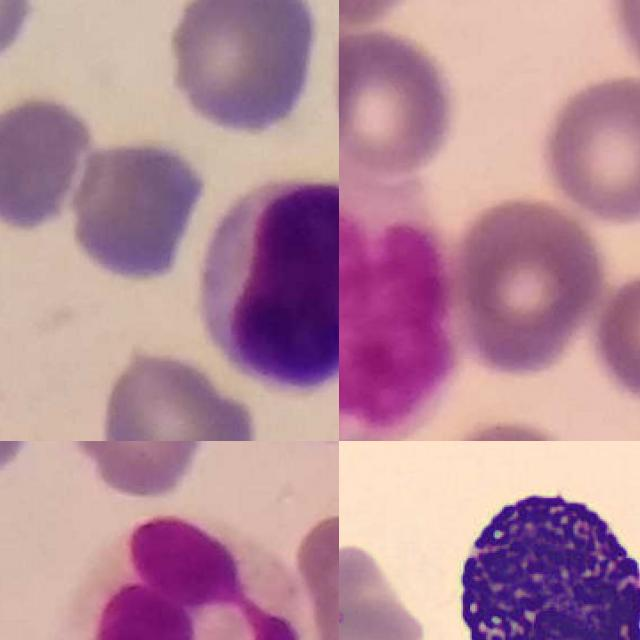Basophil: (438, 475, 640, 640)
Lymphocyte: (202, 167, 339, 394)
Monocyte: (339, 154, 462, 441)
Neutrophil: (61, 512, 317, 640)
RBC: (339, 524, 461, 640), (339, 540, 436, 640)
